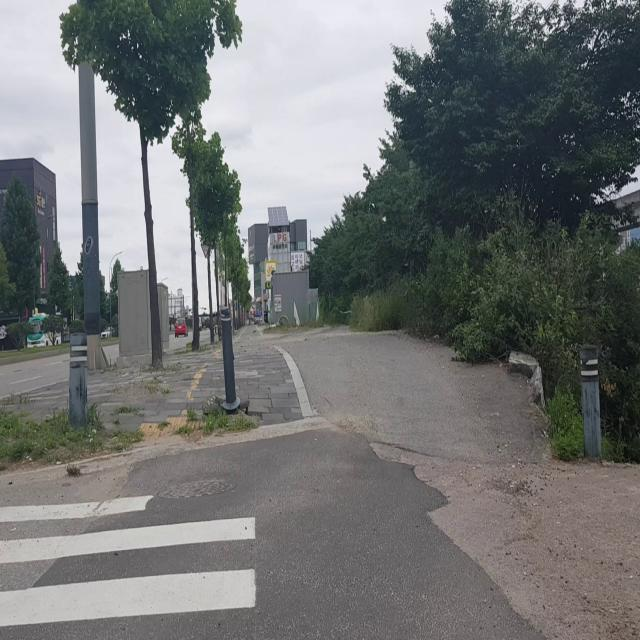횡단보도: (0, 492, 258, 630)
